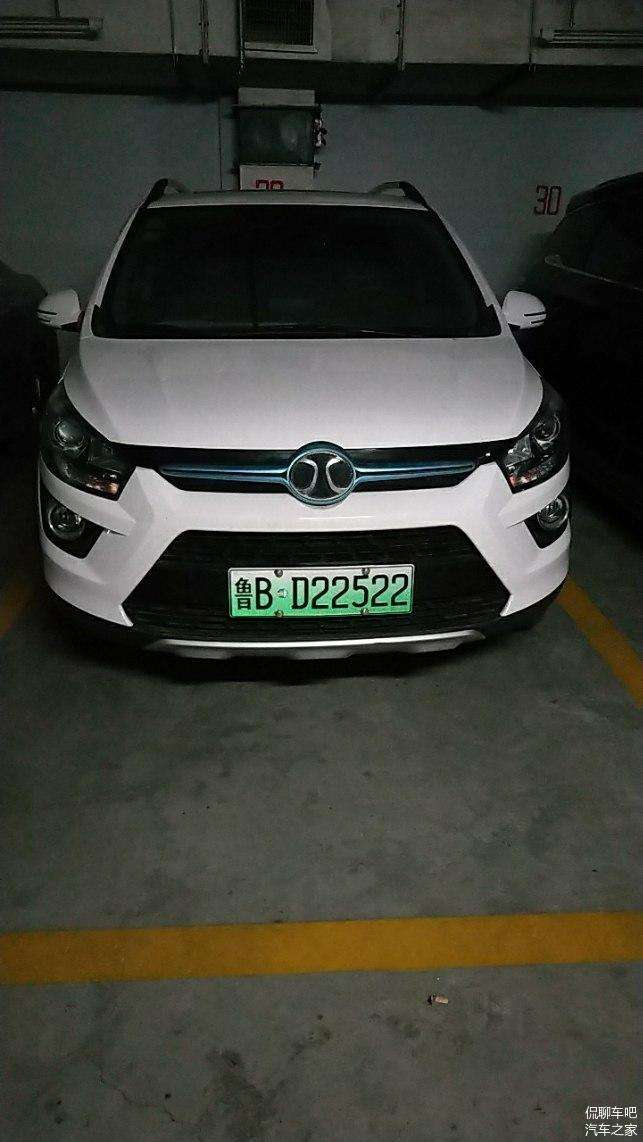plate: (206, 545, 436, 639)
